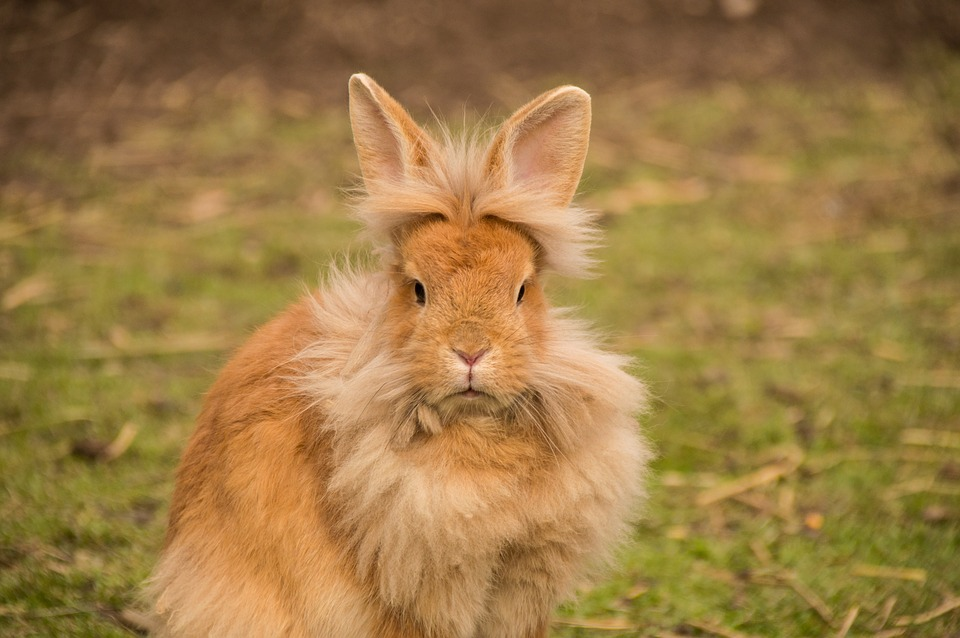bunny: (118, 57, 699, 638)
